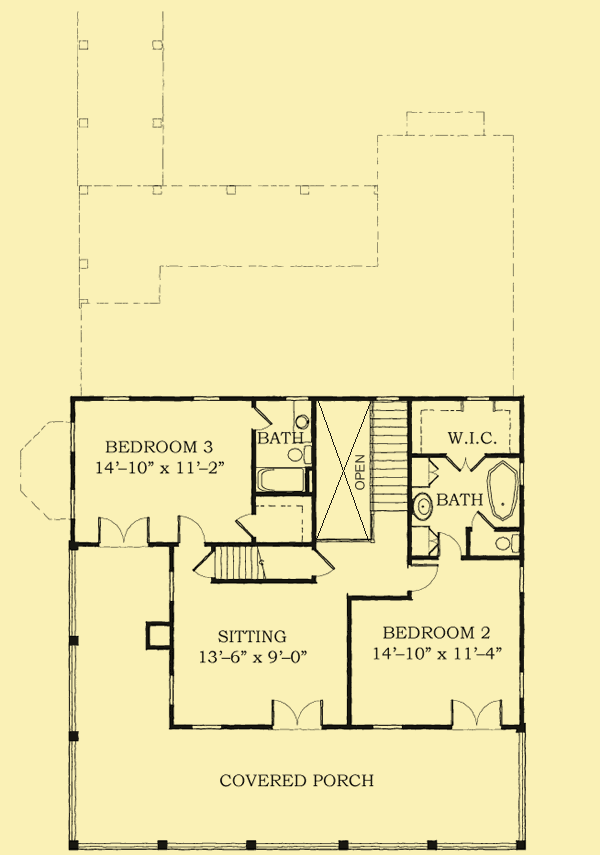door: (94, 513, 156, 551), (449, 695, 503, 731), (274, 697, 326, 731), (408, 561, 441, 596), (175, 511, 206, 548), (433, 531, 465, 565), (308, 550, 338, 581), (235, 510, 261, 538)
large_sink: (282, 445, 314, 465), (491, 534, 523, 553)
small_sink: (292, 403, 315, 446)
stairs: (366, 398, 416, 518), (214, 544, 269, 581)
tub: (479, 460, 519, 525), (249, 466, 304, 496)
